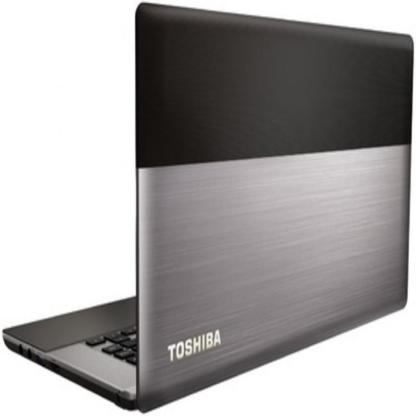board: (16, 26, 406, 416)
